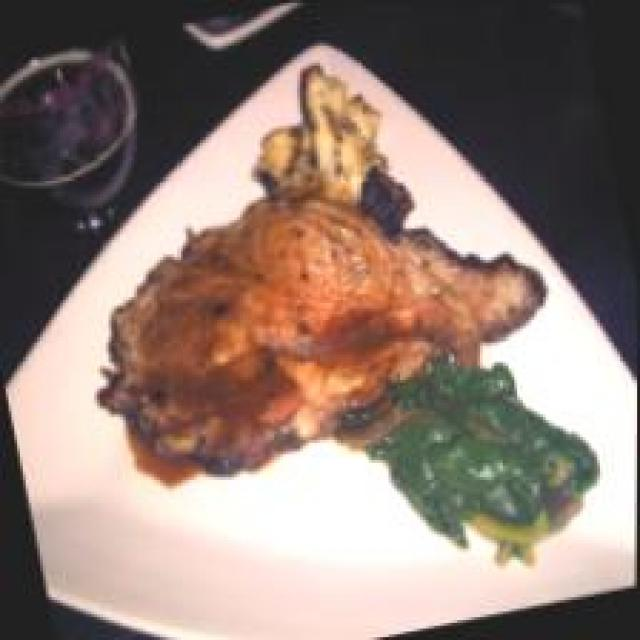rib: (70, 156, 536, 467)
